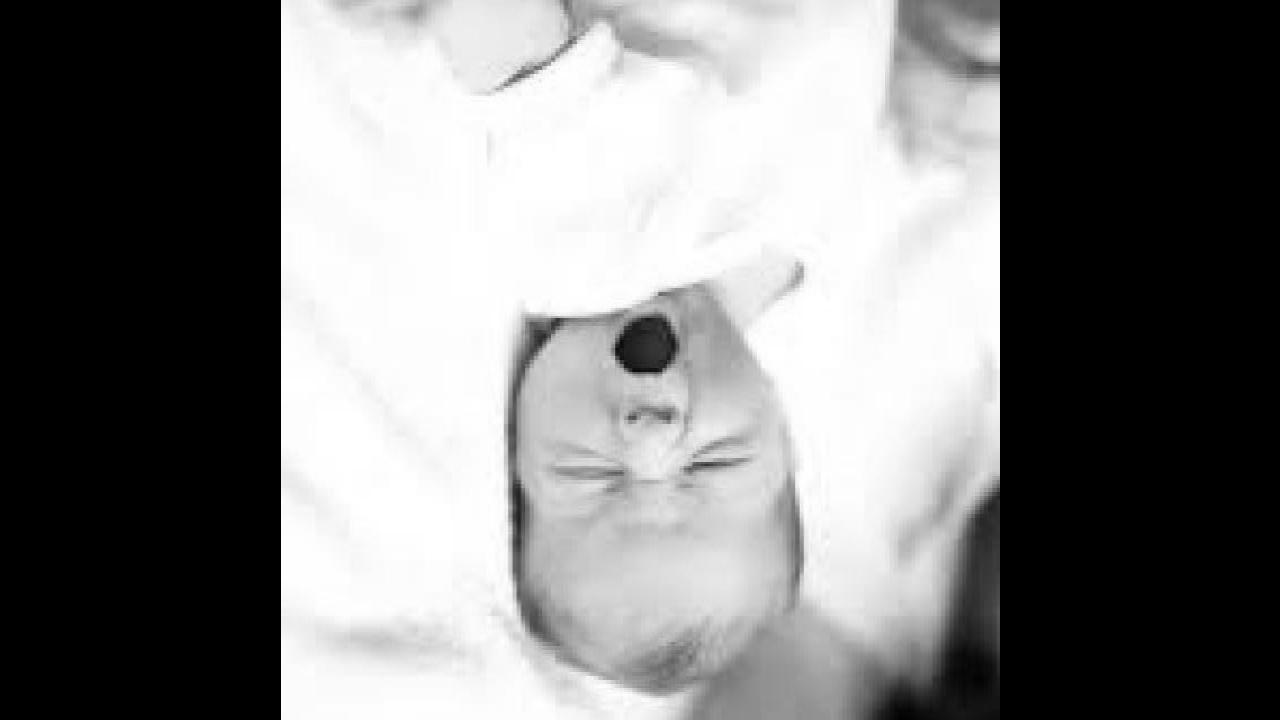hand: (321, 0, 471, 62)
